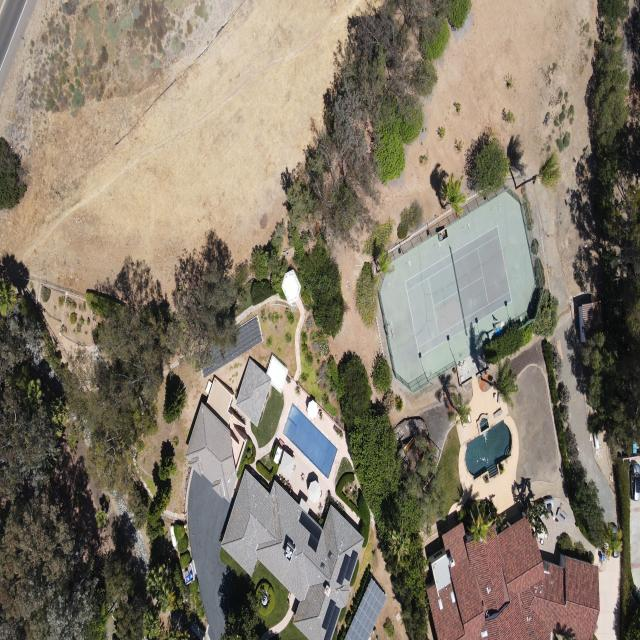solar-panels: (191, 316, 270, 379), (344, 578, 391, 640), (288, 510, 330, 553), (336, 547, 359, 588)
